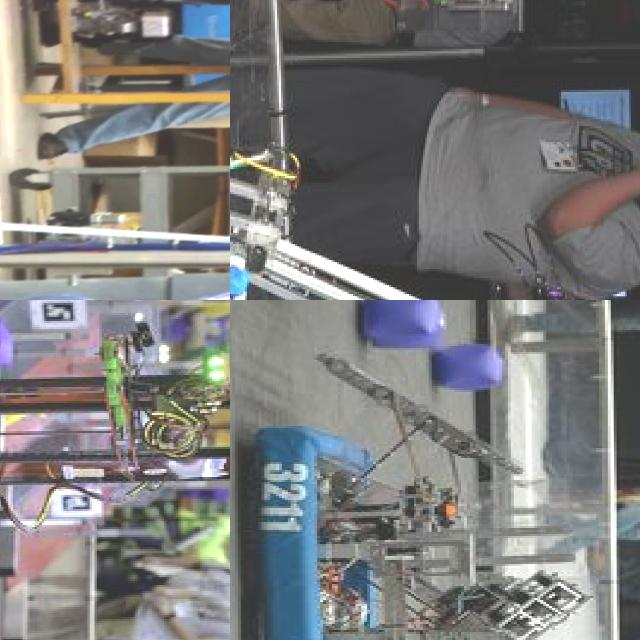FRC-Robots: (230, 325, 640, 640), (230, 23, 593, 300), (0, 310, 230, 640), (0, 128, 230, 300)
